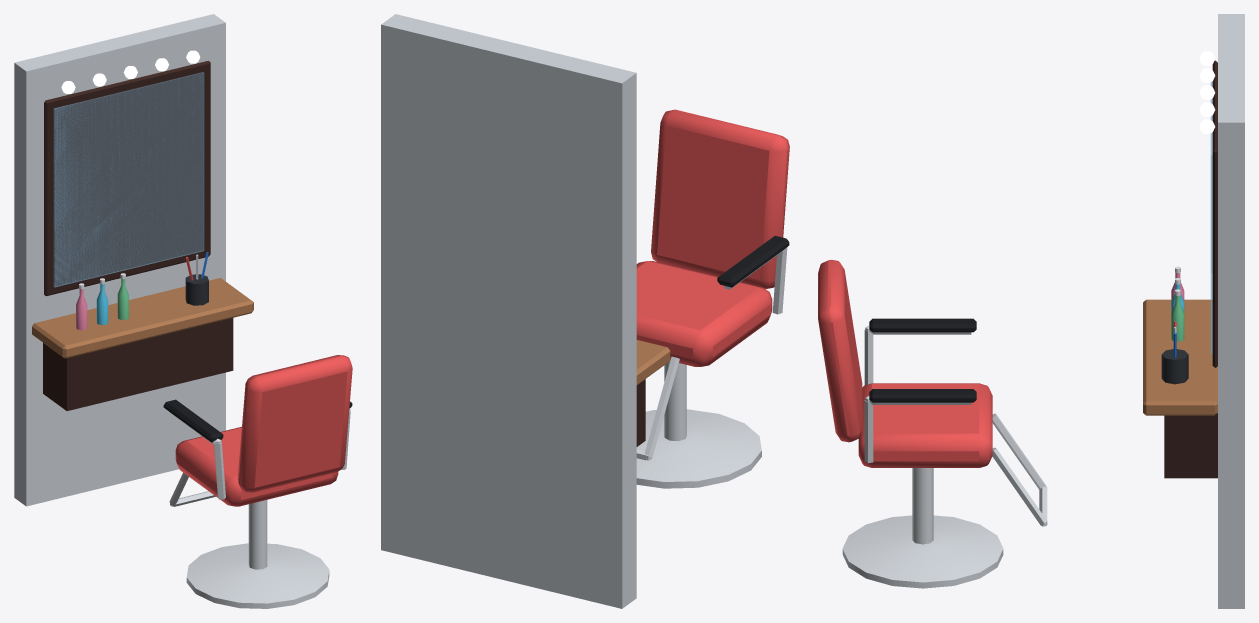
The model's file is hair_chair.glb.
3 views of the same model, side by side, from view 1: azimuth 30°, elevation 25°; view 2: azimuth 150°, elevation 25°; view 3: azimuth 270°, elevation 25° (orthographic). The views are drawn at different scales.
Parts seen in each view (by area): view 1: hair_chair; view 2: hair_chair; view 3: hair_chair.
Boxes of the visible parts, box(x1,y1,x2,y2) form: hair_chair: box(14, 14, 352, 608); hair_chair: box(381, 14, 789, 608); hair_chair: box(818, 14, 1244, 608).
Size of the model in its own units: 0.96 by 2 by 1.59.
